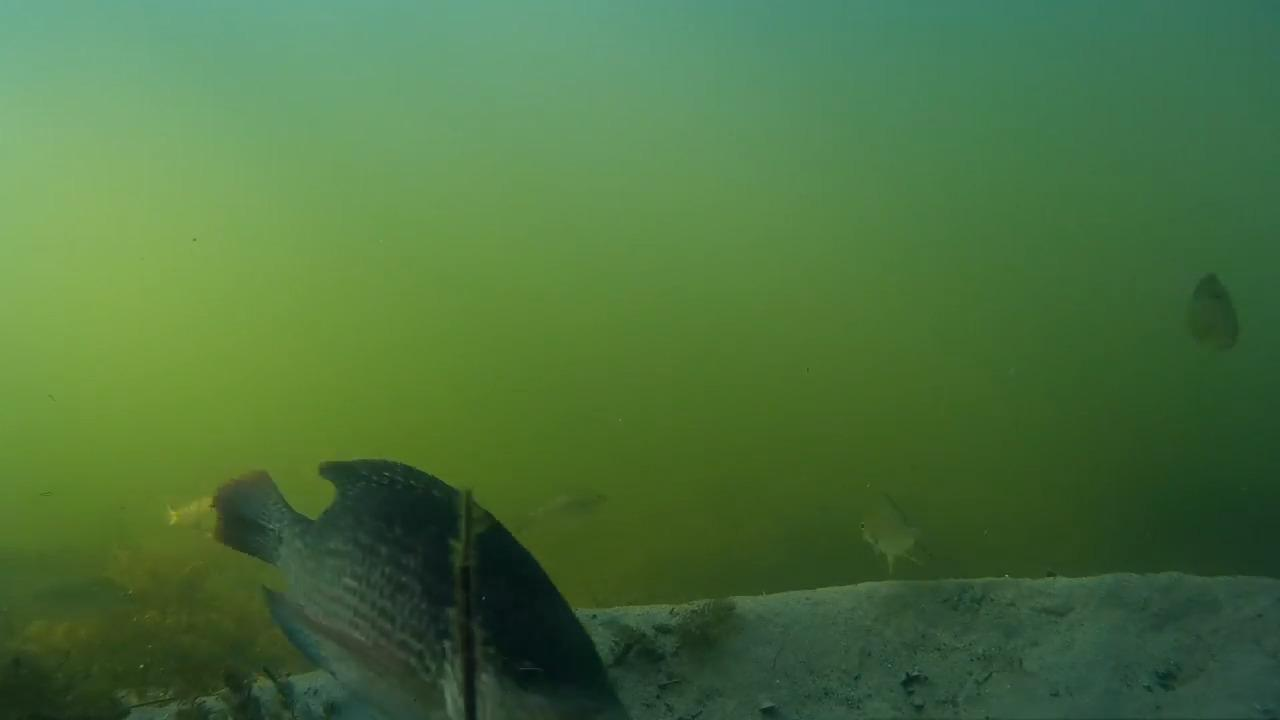Tilapia: (198, 438, 641, 710), (842, 480, 947, 580)
